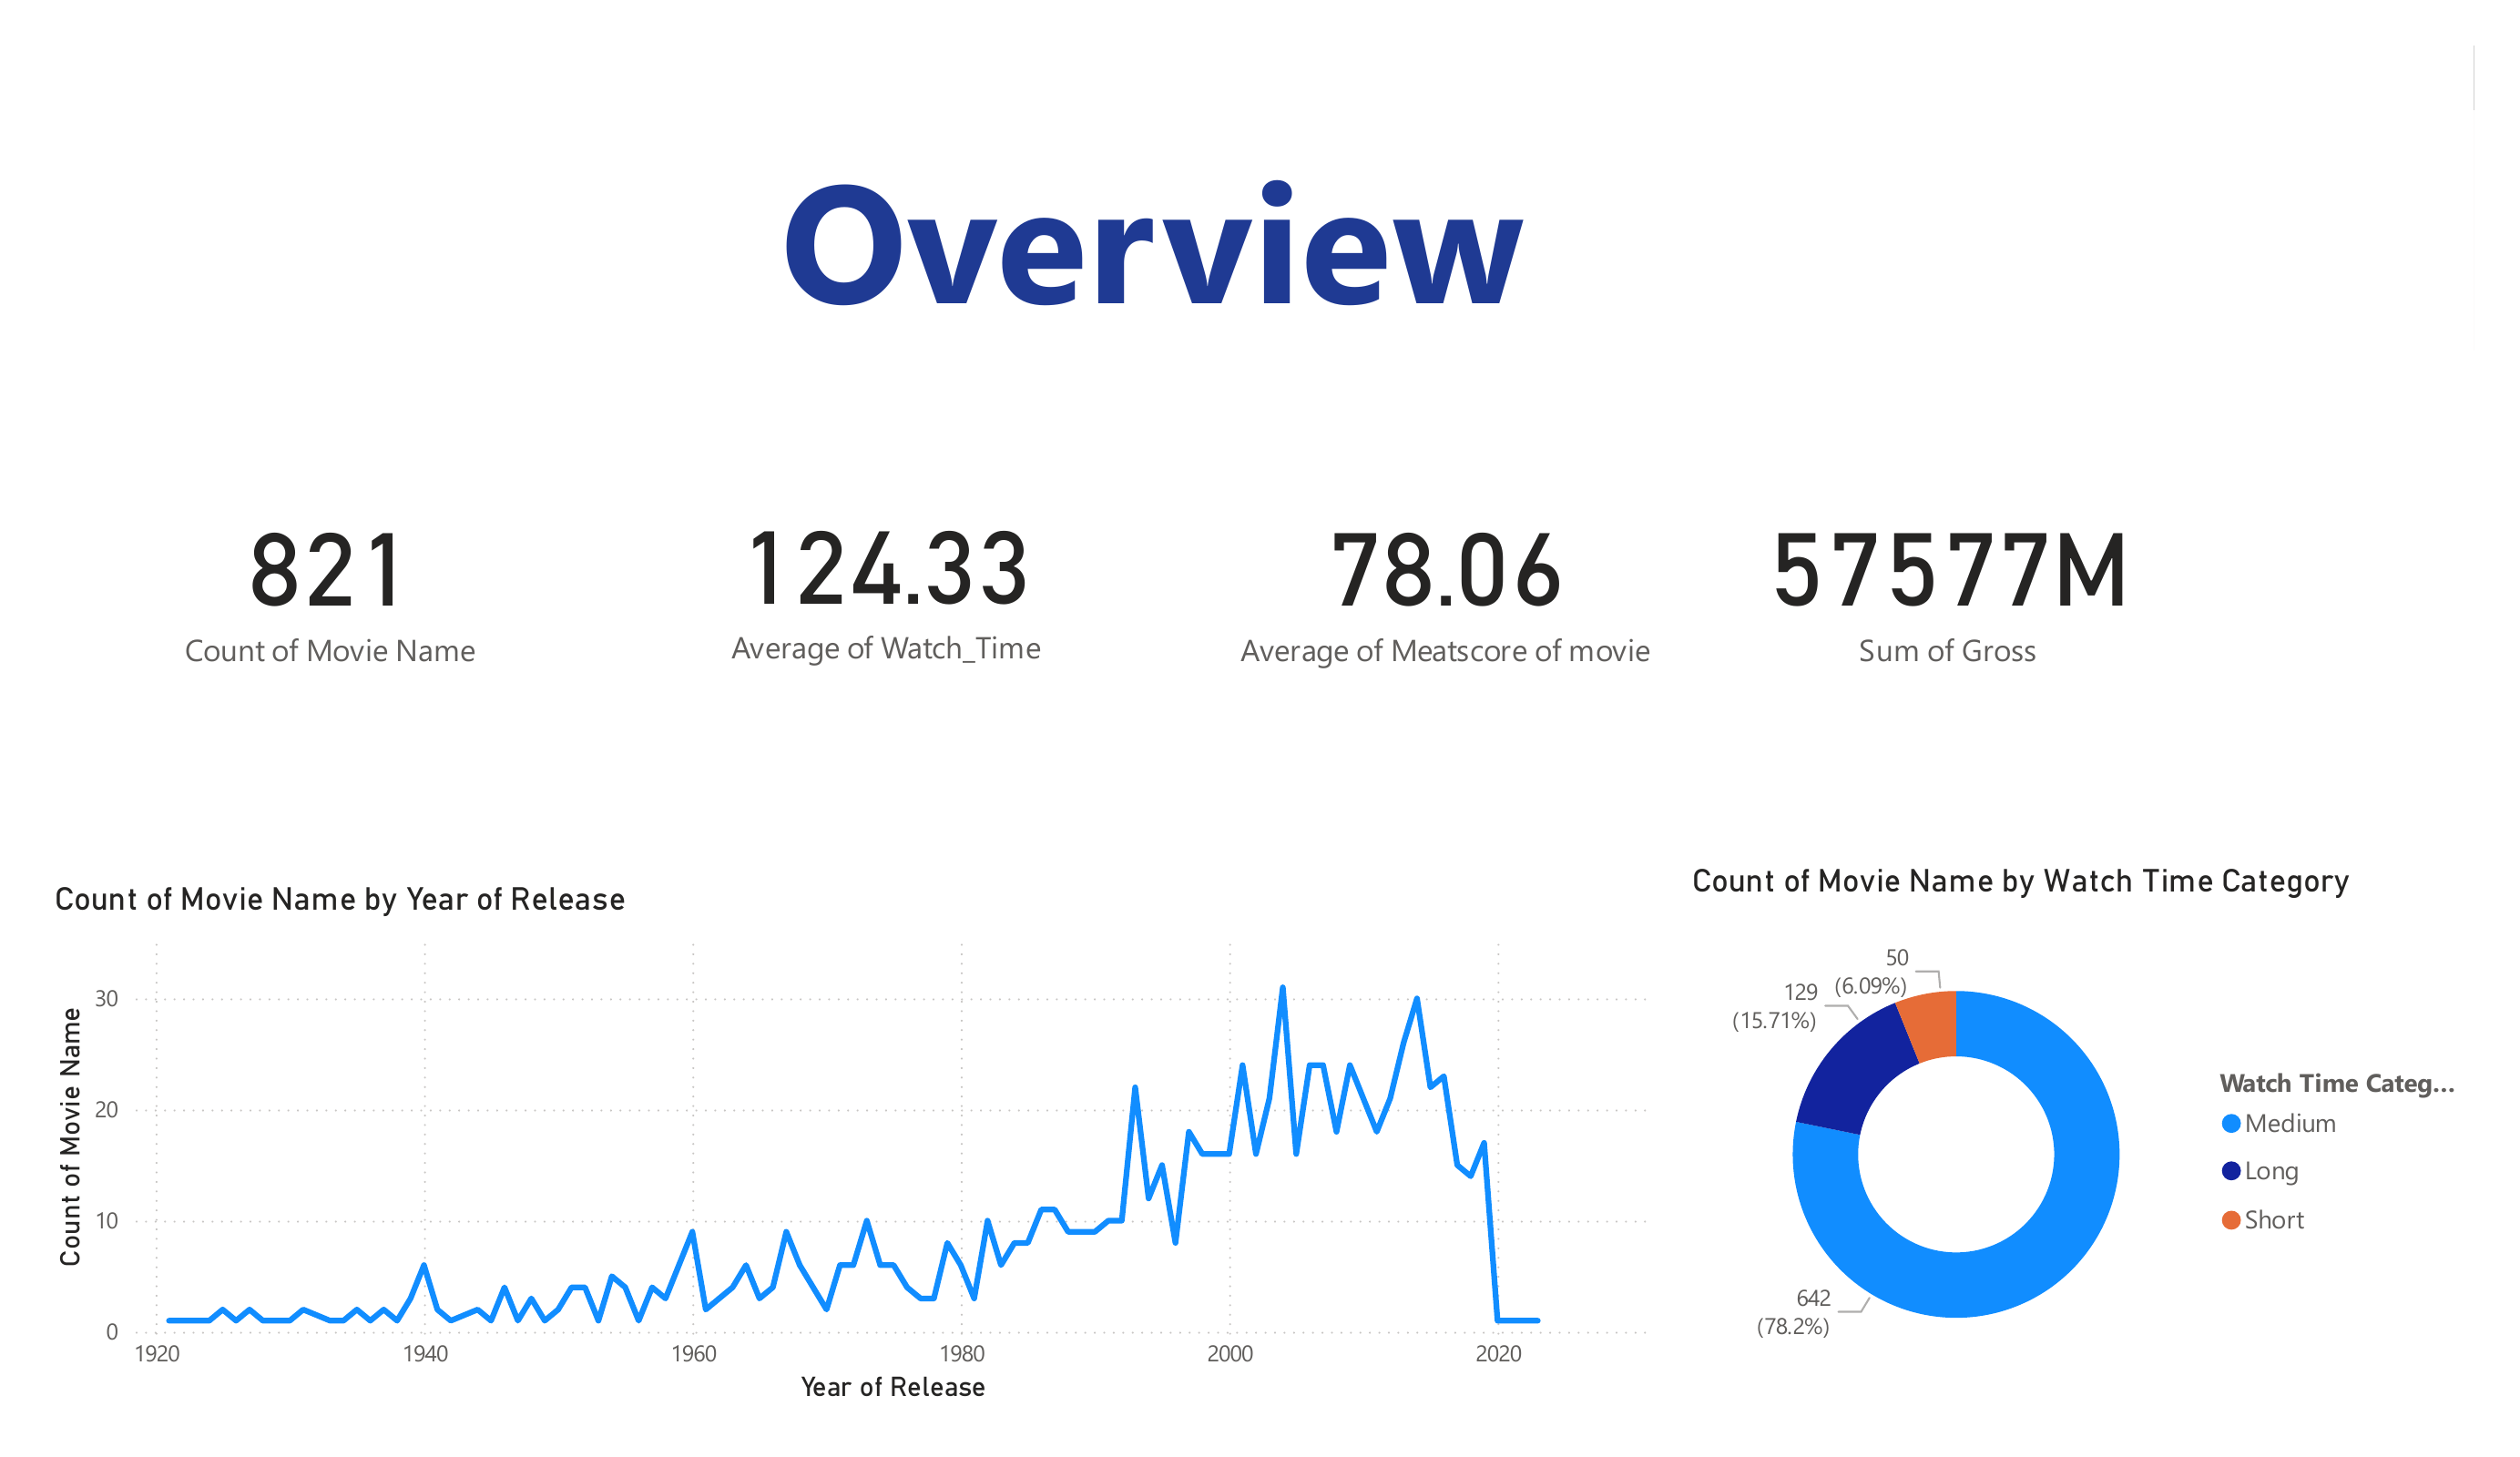

The page's visual inventory and layout, read from the dashboard file:
{"tool":"powerbi","page":{"name":"Page 1","canvas":[1280,720],"ordinal":0},"visuals":[{"type":"card","fields":{"Values":["Count(Cleaned_Top_Ranked_Real_Movies_Dataset.Movie Name)"]},"box":[10,140,280,280],"z":0},{"type":"card","fields":{"Values":["Avg(Cleaned_Top_Ranked_Real_Movies_Dataset.Meatscore of movie)"]},"box":[598.3,140,280,280],"z":1000},{"type":"card","fields":{"Values":["Avg(Cleaned_Top_Ranked_Real_Movies_Dataset.Watch Time)"]},"box":[303.3,205,280,148.3],"z":2000},{"type":"card","fields":{"Values":["Sum(Cleaned_Top_Ranked_Real_Movies_Dataset.Gross)"]},"box":[863.3,140,280,280],"z":3000},{"type":"lineChart","fields":{"Category":["Cleaned_Top_Ranked_Real_Movies_Dataset.Year of Release"],"Y":["CountNonNull(Cleaned_Top_Ranked_Real_Movies_Dataset.Movie Name)"]},"box":[0,440,853.3,280],"z":4000},{"type":"donutChart","fields":{"Category":["Cleaned_Top_Ranked_Real_Movies_Dataset.Watch Time Category"],"Y":["CountNonNull(Cleaned_Top_Ranked_Real_Movies_Dataset.Movie Name)"]},"box":[863.3,430,416.7,290],"z":5000},{"type":"textbox","box":[336.7,36.7,493.3,150],"z":6000}]}

Visuals, with their boxes on the page's 1280x720 design canvas (x1, y1, x2, y2). These are canvas units, not pixel positions in the 2520x1457 screenshot, which may show the page scaled, cropped or inside an application window:
card - Count(Cleaned_Top_Ranked_Real_Movies_Dataset.Movie Name): select_region(10, 140, 290, 420)
card - Avg(Cleaned_Top_Ranked_Real_Movies_Dataset.Meatscore of movie): select_region(598, 140, 878, 420)
card - Avg(Cleaned_Top_Ranked_Real_Movies_Dataset.Watch Time): select_region(303, 205, 583, 353)
card - Sum(Cleaned_Top_Ranked_Real_Movies_Dataset.Gross): select_region(863, 140, 1143, 420)
lineChart - Cleaned_Top_Ranked_Real_Movies_Dataset.Year of Release x CountNonNull(Cleaned_Top_Ranked_Real_Movies_Dataset.Movie Name): select_region(0, 440, 853, 720)
donutChart - Cleaned_Top_Ranked_Real_Movies_Dataset.Watch Time Category x CountNonNull(Cleaned_Top_Ranked_Real_Movies_Dataset.Movie Name): select_region(863, 430, 1280, 720)
textbox: select_region(337, 37, 830, 187)
